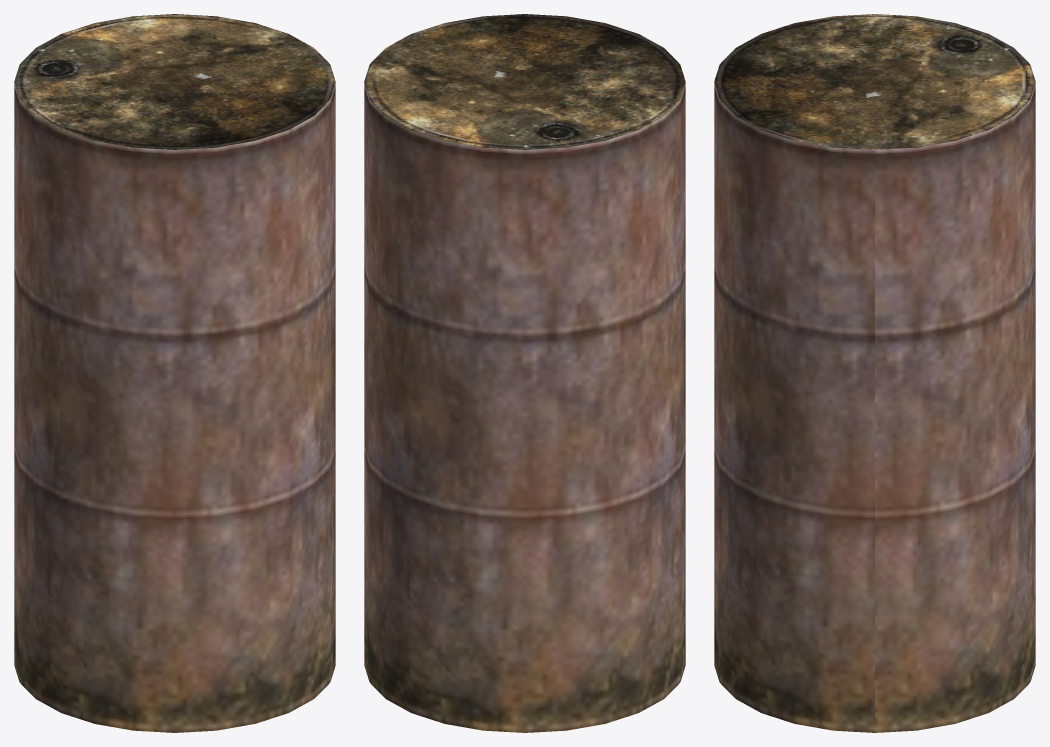
File: RusryBarrel.gltf
The picture shows the model from 3 angles, left to right: view 1: azimuth 30°, elevation 25°; view 2: azimuth 150°, elevation 25°; view 3: azimuth 270°, elevation 25°; orthographic projection.
Visible parts, largest first — view 1: node1; view 2: node1; view 3: node1.
Part boxes in pixels (<box>): node1: <box>14,14,335,732</box>; node1: <box>364,14,685,732</box>; node1: <box>714,14,1035,732</box>.
Size of the model in its own units: 0.4572 by 0.9144 by 0.4572.
